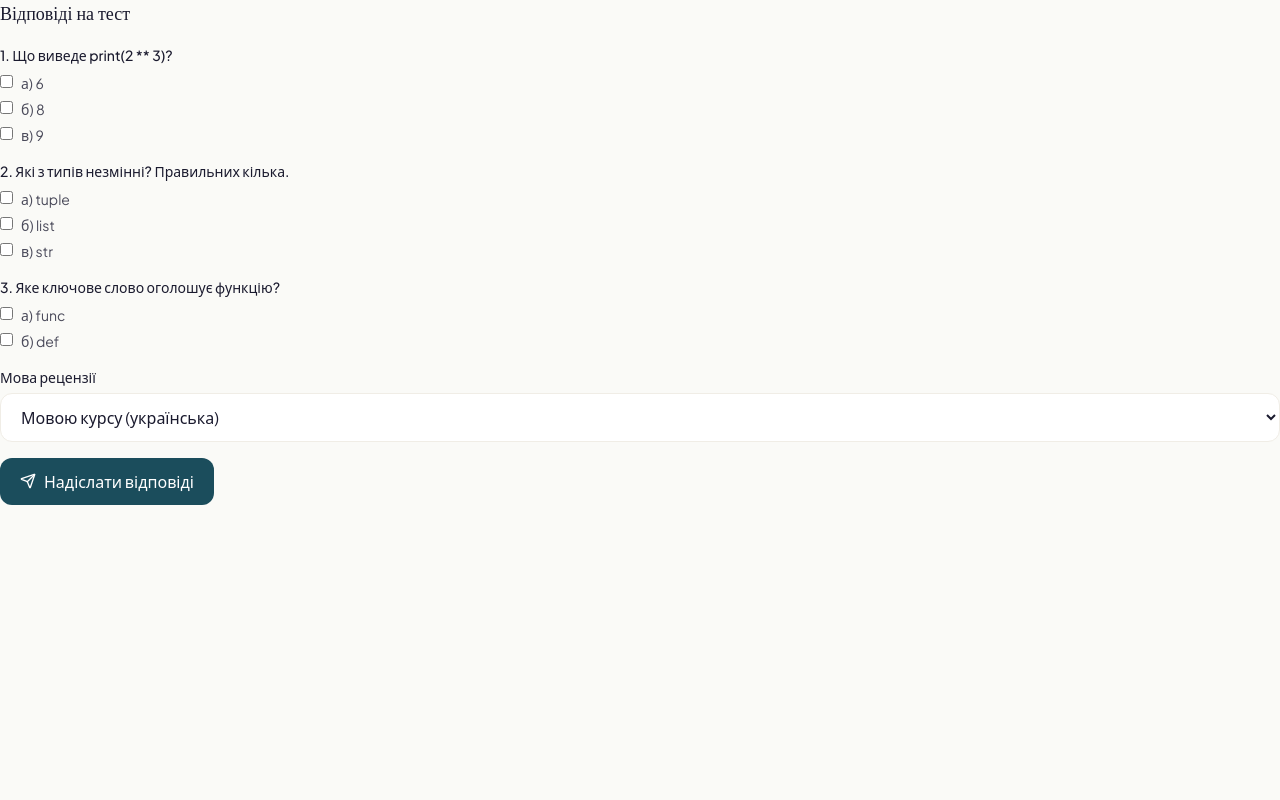
Test: PortalTestForm — підтвердження для питань без позначки › names a single blank question in the singular
Click the checkbox labelled "б) 8" at (6, 107), box [0,101,13,114]
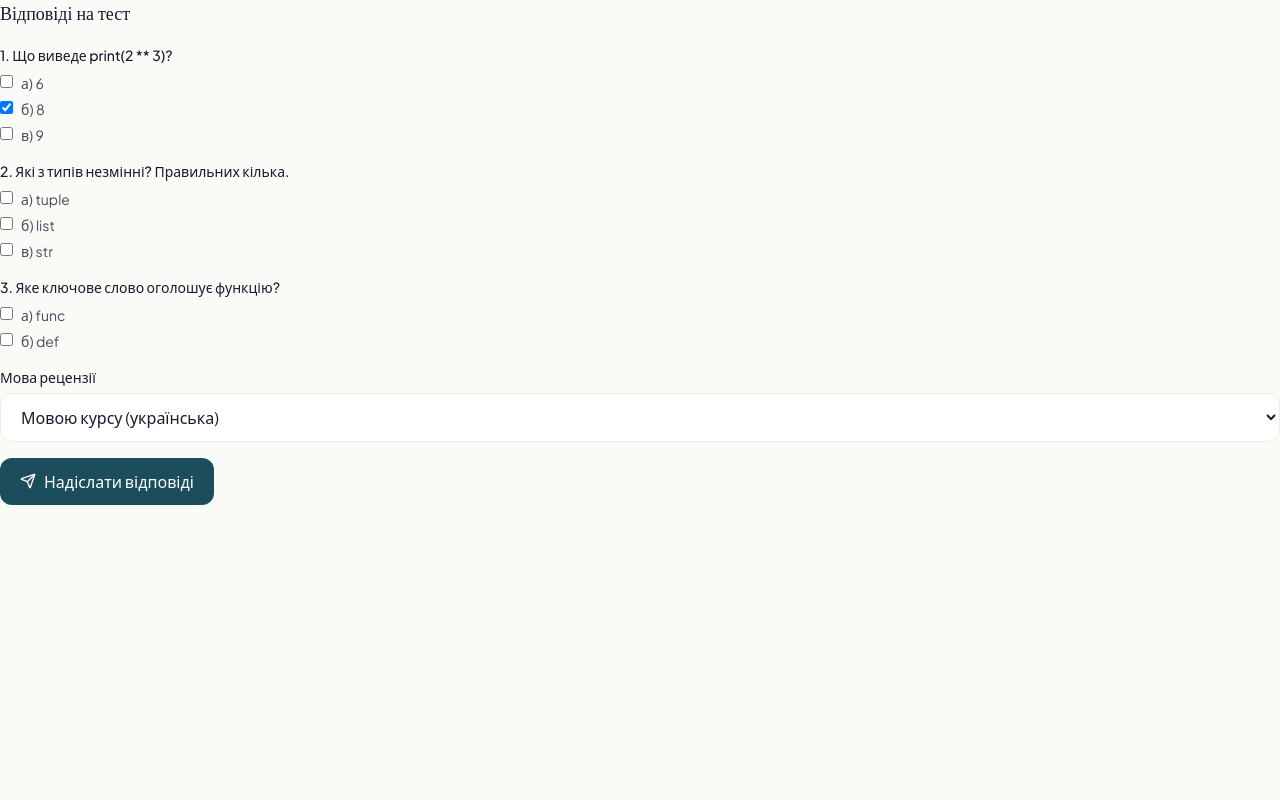
Click the checkbox labelled "а) tuple" at (6, 197), box [0,191,13,204]
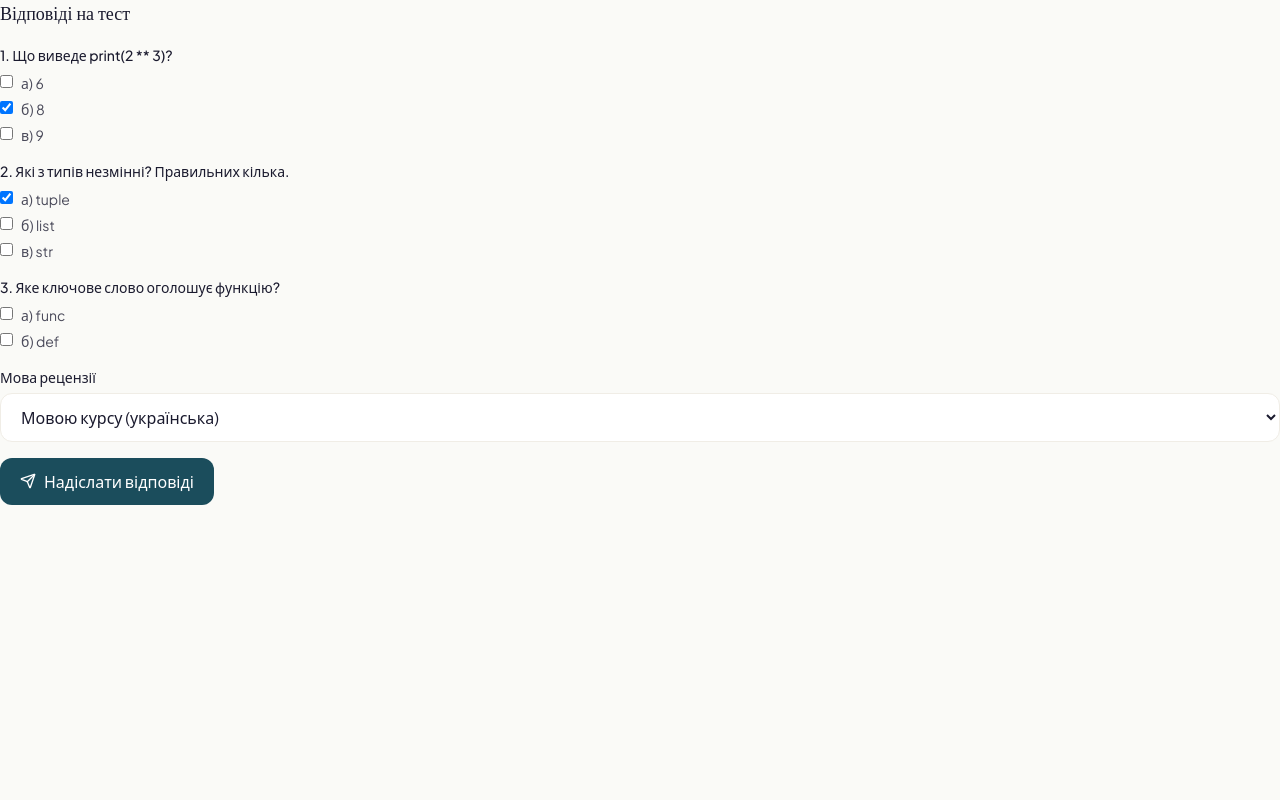
Click the button "Надіслати відповіді" at (107, 481), box [0,458,214,505]
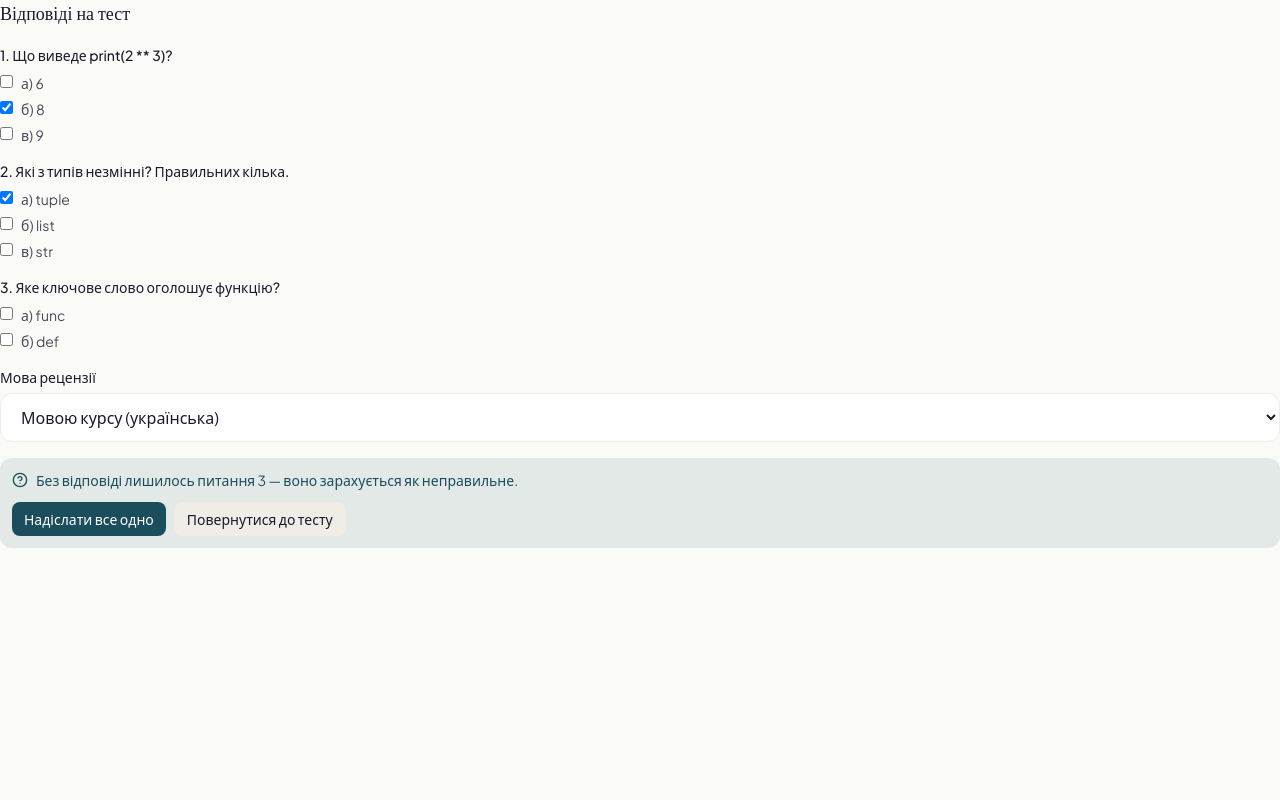
Expected: the text "Без відповіді лишилось питання 3 — воно зарахується як неправильне." is shown, [12,471,518,489]
